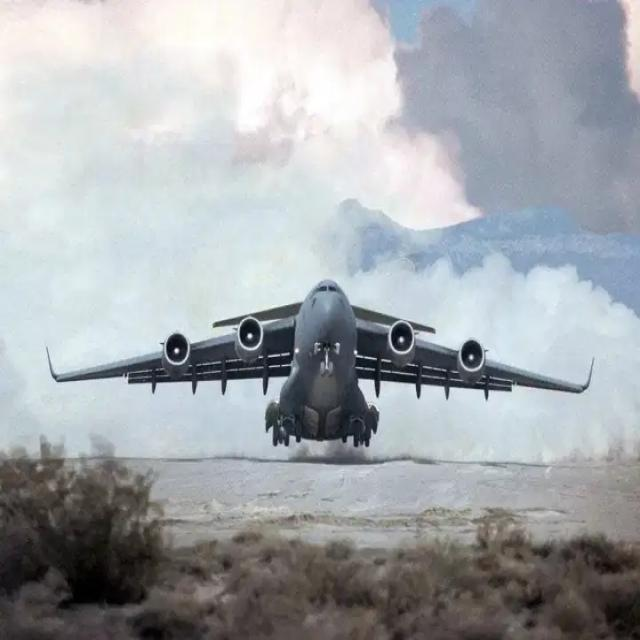MIL_Plane: (45, 275, 595, 444)
